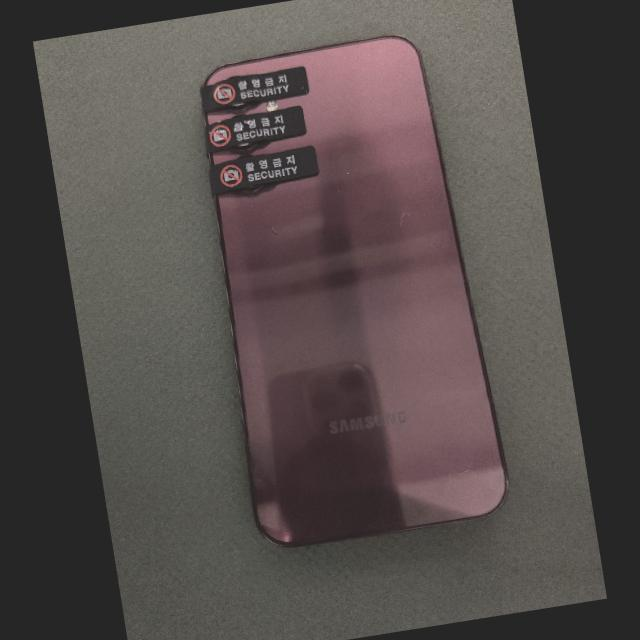lens: (211, 146, 319, 196), (201, 66, 310, 113), (208, 106, 306, 153)
phone: (201, 36, 507, 546)
